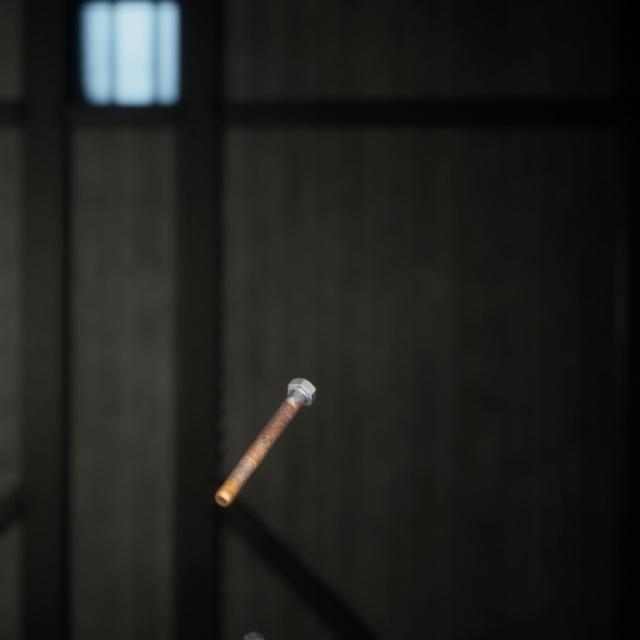bolt: (210, 353, 320, 489), (237, 602, 271, 640)
